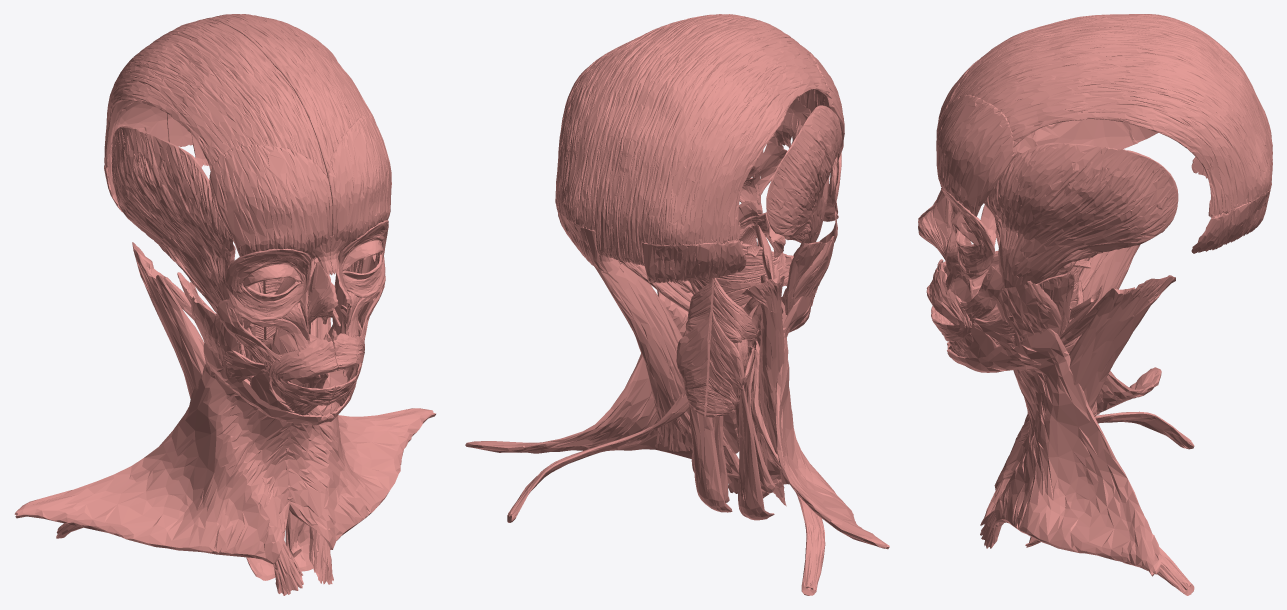
Rendered from musculos.glb.
3 views of the same model, side by side, from view 1: azimuth 30°, elevation 25°; view 2: azimuth 150°, elevation 25°; view 3: azimuth 270°, elevation 25° (orthographic).
Parts seen in each view (by area): view 1: FMA45739_D, epicranial_aponeurosis_D, FMA45740_E, temporalis_D, occipitofrontalis_D, epicranial_aponeurosis_E, occipitofrontalis_E, orbicularis_oculi_D, FMA13408_D, orbicularis_oris_D, orbicularis_oculi_E, masseter_D (+9 smaller); view 2: epicranial_aponeurosis_D, epicranial_aponeurosis_E, FMA13409_E, temporalis_D, FMA45740_E, FMA45739_D, occipitofrontalis_D, FMA13408_D, FMA46635_D, FMA13348_D, FMA13351_E, FMA46636_E (+13 smaller); view 3: epicranial_aponeurosis_E, FMA45740_E, temporalis_E, occipitofrontalis_E, FMA13409_E, epicranial_aponeurosis_D, masseter_E, temporalis_D, FMA45739_D, orbicularis_oculi_E, FMA13408_D, orbicularis_oris_E (+8 smaller).
Part boxes in pixels (<box>): FMA45739_D: <box>14,342,327,564</box>; epicranial_aponeurosis_D: <box>104,19,327,177</box>; FMA45740_E: <box>286,324,435,549</box>; temporalis_D: <box>111,126,242,326</box>; occipitofrontalis_D: <box>104,128,332,258</box>; epicranial_aponeurosis_E: <box>167,14,376,177</box>; occipitofrontalis_E: <box>191,115,391,251</box>; orbicularis_oculi_D: <box>225,248,311,320</box>; FMA13408_D: <box>132,242,303,595</box>; orbicularis_oris_D: <box>268,339,337,405</box>; orbicularis_oculi_E: <box>338,220,388,297</box>; masseter_D: <box>177,272,240,372</box>; epicranial_aponeurosis_D: <box>618,17,831,265</box>; epicranial_aponeurosis_E: <box>555,14,747,260</box>; FMA13409_E: <box>594,255,738,493</box>; temporalis_D: <box>766,105,841,256</box>; FMA45740_E: <box>465,290,739,458</box>; FMA45739_D: <box>751,295,889,549</box>; occipitofrontalis_D: <box>642,47,844,283</box>; FMA13408_D: <box>742,276,786,506</box>; FMA46635_D: <box>706,311,745,417</box>; FMA13348_D: <box>750,340,825,595</box>; FMA13351_E: <box>689,391,732,512</box>; FMA46636_E: <box>676,310,710,416</box>; epicranial_aponeurosis_E: <box>948,27,1272,217</box>; FMA45740_E: <box>947,328,1161,576</box>; temporalis_E: <box>984,142,1178,288</box>; occipitofrontalis_E: <box>936,95,1271,253</box>; FMA13409_E: <box>980,275,1175,548</box>; epicranial_aponeurosis_D: <box>947,14,1272,154</box>; masseter_E: <box>996,270,1074,348</box>; temporalis_D: <box>1014,119,1158,157</box>; FMA45739_D: <box>947,342,1161,489</box>; orbicularis_oculi_E: <box>941,188,994,273</box>; FMA13408_D: <box>980,244,1140,525</box>; orbicularis_oris_E: <box>926,269,971,341</box>.
Size of the model in its own units: 0.2824 by 0.326 by 0.2053.
